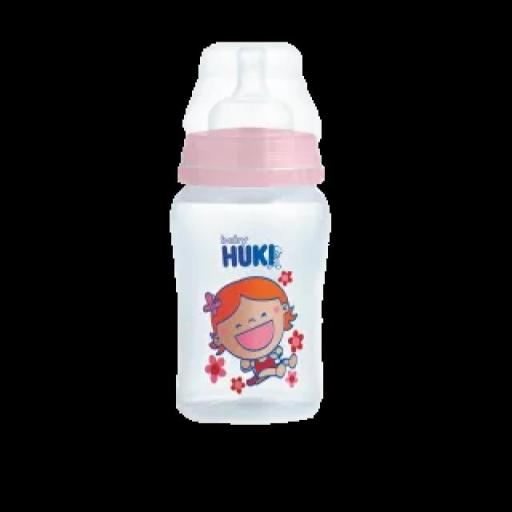plastic: (163, 32, 343, 422)
